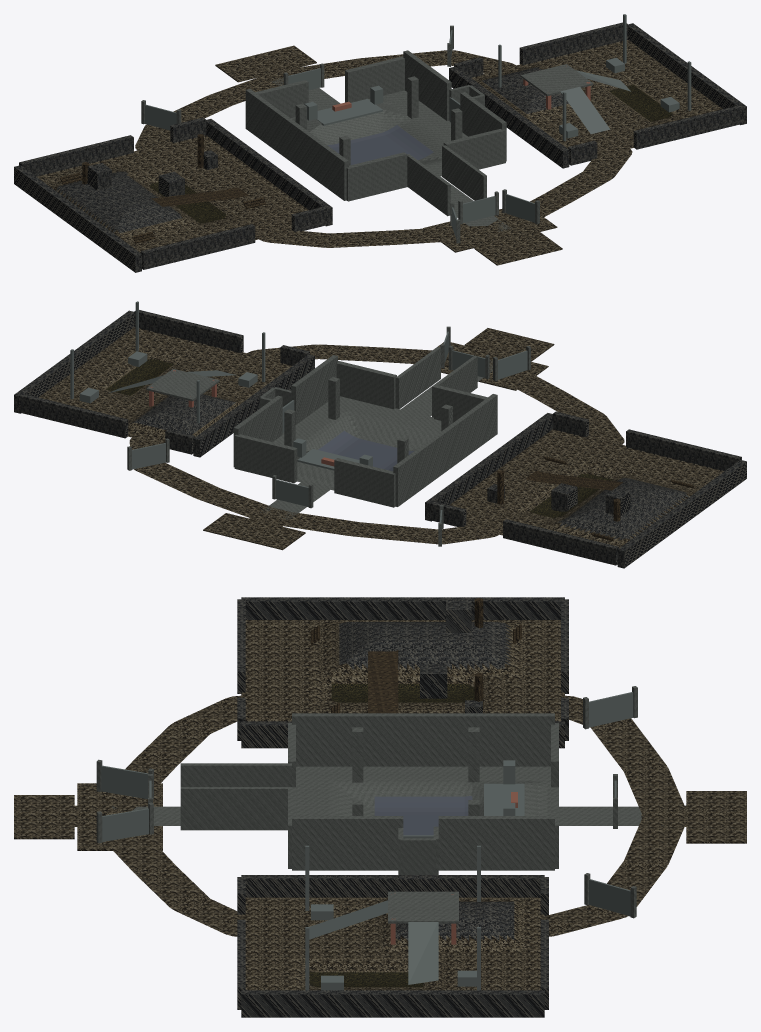
File: Pohorje_CollisionGuides.fbx
The picture shows the model from 3 angles, top to bottom: view 1: azimuth 30°, elevation 25°; view 2: azimuth 150°, elevation 25°; view 3: azimuth 270°, elevation 25°; orthographic projection. The views are drawn at different scales.
Visible parts, largest first — view 1: PL_COL_A_CombatSpace, PL_COL_B_CombatSpace, PL_COL_C_CombatSpace, PL_COL_C_RoomSide, PL_COL_Travel_A, PL_COL_A_Boundary, PL_COL_Travel_ExitA, PL_COL_Travel_B, PL_COL_A_Boundary.001, PL_COL_B_Boundary, PL_COL_A_EndWall, PL_COL_C_EndWall (+34 smaller); view 2: PL_COL_A_CombatSpace, PL_COL_B_CombatSpace, PL_COL_C_CombatSpace, PL_COL_C_RoomSide, PL_COL_Travel_ExitA, PL_COL_A_Boundary, PL_COL_Travel_ExitB, PL_COL_Travel_A, PL_COL_A_Boundary.001, PL_COL_A_EndWall.002, PL_COL_C_EndWall.003, PL_COL_B_Boundary (+31 smaller); view 3: PL_COL_A_CombatSpace, PL_COL_B_CombatSpace, PL_COL_C_RoomSide, PL_COL_C_CombatSpace, PL_COL_B_Boundary.001, PL_COL_A_Boundary, PL_COL_C_RoomSide.002, PL_COL_B_Boundary, PL_COL_C_RoomSide.001, PL_COL_Travel_ExitB, PL_COL_Travel_ExitA, PL_COL_Travel_B (+28 smaller).
Part boxes in pixels (x1=…): PL_COL_A_CombatSpace: x1=36, y1=135, x2=308, y2=252; PL_COL_B_CombatSpace: x1=472, y1=39, x2=722, y2=151; PL_COL_C_CombatSpace: x1=291, y1=90, x2=467, y2=176; PL_COL_C_RoomSide: x1=245, y1=89, x2=348, y2=200; PL_COL_Travel_A: x1=256, y1=227, x2=472, y2=247; PL_COL_A_Boundary: x1=14, y1=165, x2=141, y2=272; PL_COL_Travel_ExitA: x1=135, y1=70, x2=297, y2=153; PL_COL_Travel_B: x1=504, y1=145, x2=632, y2=224; PL_COL_A_Boundary.001: x1=206, y1=119, x2=332, y2=226; PL_COL_B_Boundary: x1=449, y1=66, x2=569, y2=168; PL_COL_A_EndWall: x1=140, y1=224, x2=255, y2=269; PL_COL_C_EndWall: x1=346, y1=152, x2=407, y2=201; PL_COL_A_CombatSpace: x1=449, y1=429, x2=723, y2=548; PL_COL_B_CombatSpace: x1=38, y1=327, x2=291, y2=442; PL_COL_C_CombatSpace: x1=273, y1=396, x2=441, y2=490; PL_COL_C_RoomSide: x1=393, y1=394, x2=497, y2=506; PL_COL_Travel_ExitA: x1=256, y1=509, x2=501, y2=544; PL_COL_A_Boundary: x1=617, y1=460, x2=746, y2=568; PL_COL_Travel_ExitB: x1=129, y1=435, x2=277, y2=522; PL_COL_Travel_A: x1=499, y1=370, x2=624, y2=448; PL_COL_A_Boundary.001: x1=425, y1=413, x2=552, y2=521; PL_COL_A_EndWall.002: x1=503, y1=519, x2=618, y2=565; PL_COL_C_EndWall.003: x1=234, y1=434, x2=297, y2=483; PL_COL_B_Boundary: x1=193, y1=354, x2=314, y2=457; PL_COL_A_CombatSpace: x1=241, y1=620, x2=564, y2=721; PL_COL_B_CombatSpace: x1=245, y1=897, x2=544, y2=990; PL_COL_C_RoomSide: x1=292, y1=713, x2=554, y2=766; PL_COL_C_CombatSpace: x1=296, y1=766, x2=550, y2=835; PL_COL_B_Boundary.001: x1=241, y1=990, x2=544, y2=1017; PL_COL_A_Boundary: x1=241, y1=597, x2=564, y2=619; PL_COL_C_RoomSide.002: x1=438, y1=816, x2=554, y2=870; PL_COL_B_Boundary: x1=241, y1=875, x2=544, y2=897; PL_COL_C_RoomSide.001: x1=292, y1=816, x2=403, y2=870; PL_COL_Travel_ExitB: x1=536, y1=814, x2=688, y2=936; PL_COL_Travel_ExitA: x1=542, y1=695, x2=685, y2=825; PL_COL_Travel_B: x1=105, y1=834, x2=263, y2=936.
Bounding box in the file's own units: 18600 × 1650 × 14500.
Materials: 8 (5 with a texture image).
